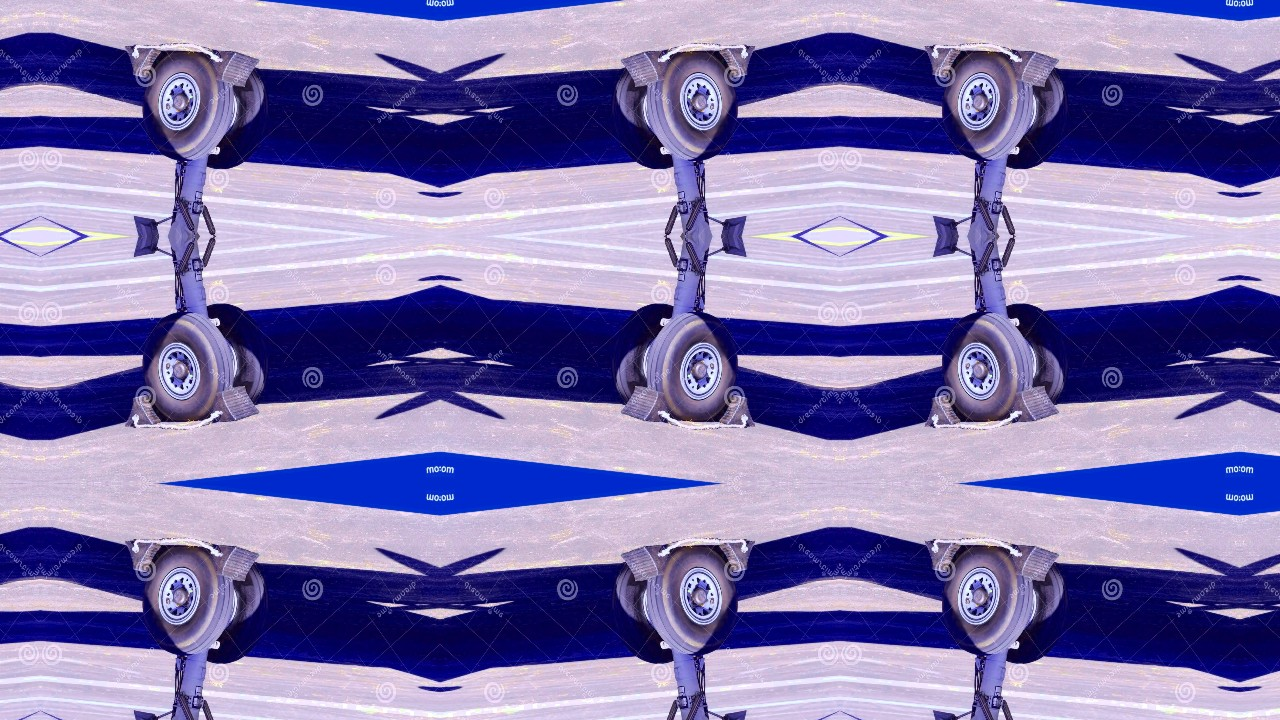chock: (208, 383, 262, 425), (618, 383, 672, 425), (1008, 383, 1062, 425), (208, 48, 262, 89), (618, 48, 672, 89), (1008, 48, 1062, 89), (208, 543, 262, 584), (618, 543, 672, 584), (1008, 543, 1062, 584), (121, 392, 162, 431), (718, 392, 759, 431), (921, 392, 962, 431), (121, 42, 162, 80), (718, 42, 759, 80), (921, 42, 962, 80), (121, 537, 162, 575), (718, 537, 759, 575), (921, 537, 962, 575)
wheel: (137, 306, 239, 425), (641, 306, 743, 425), (937, 306, 1039, 425), (137, 48, 239, 166), (641, 48, 743, 166), (937, 48, 1039, 166), (137, 543, 239, 661), (641, 543, 743, 661), (937, 543, 1039, 661), (204, 297, 274, 410), (606, 297, 676, 410), (1004, 297, 1074, 410), (204, 63, 274, 175), (606, 63, 676, 175), (1004, 63, 1074, 175), (204, 558, 274, 670), (606, 558, 676, 670), (1004, 558, 1074, 670)
